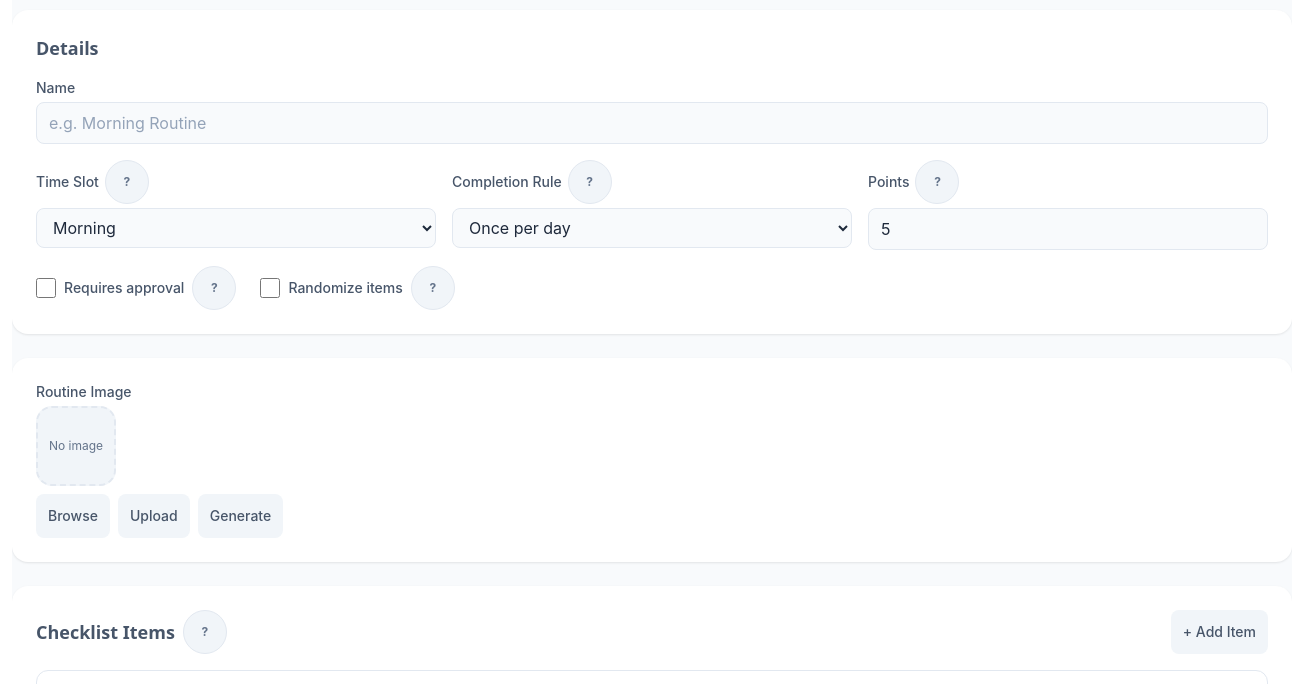
Scenario: AdminRoutineForm › shows secondary add-item button when 3+ items exist
Click the button "+ Add Item" at (1219, 632), box [1171, 610, 1268, 654]
(page scrolled)
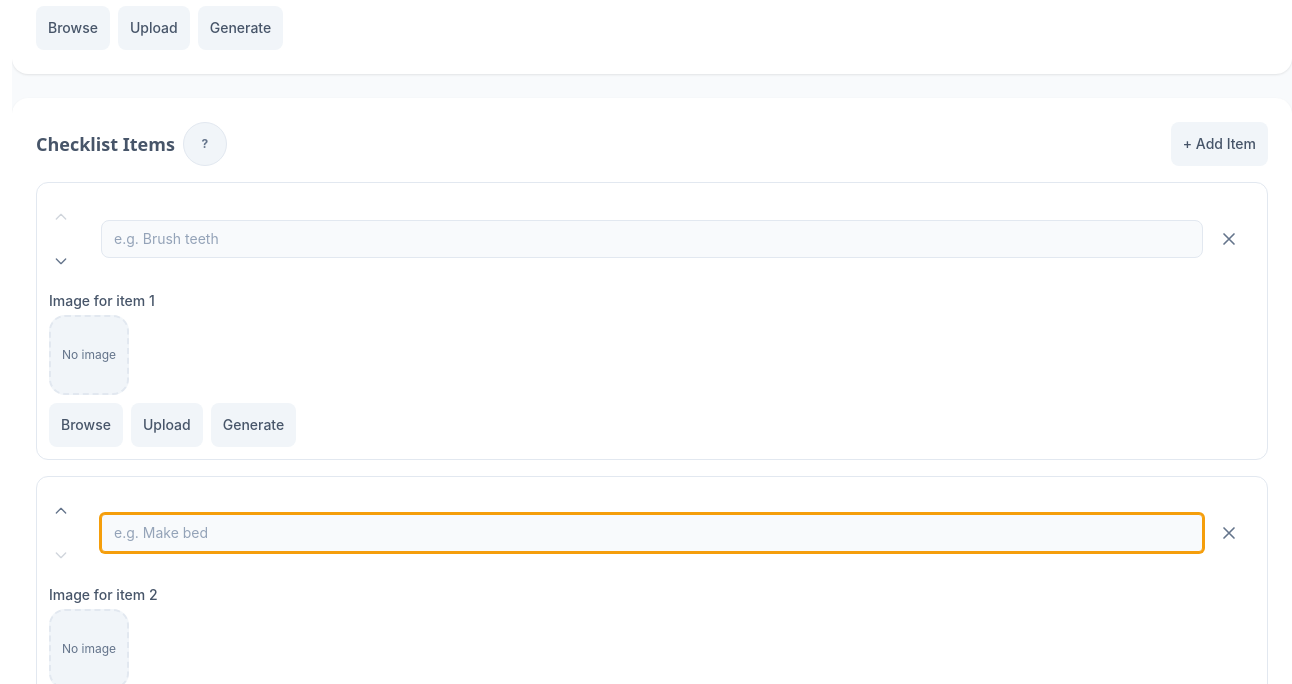
Check: the number of buttons "+ Add Item" is 1
Click the button "+ Add Item" at (1219, 144), box [1171, 122, 1268, 166]
(page scrolled)
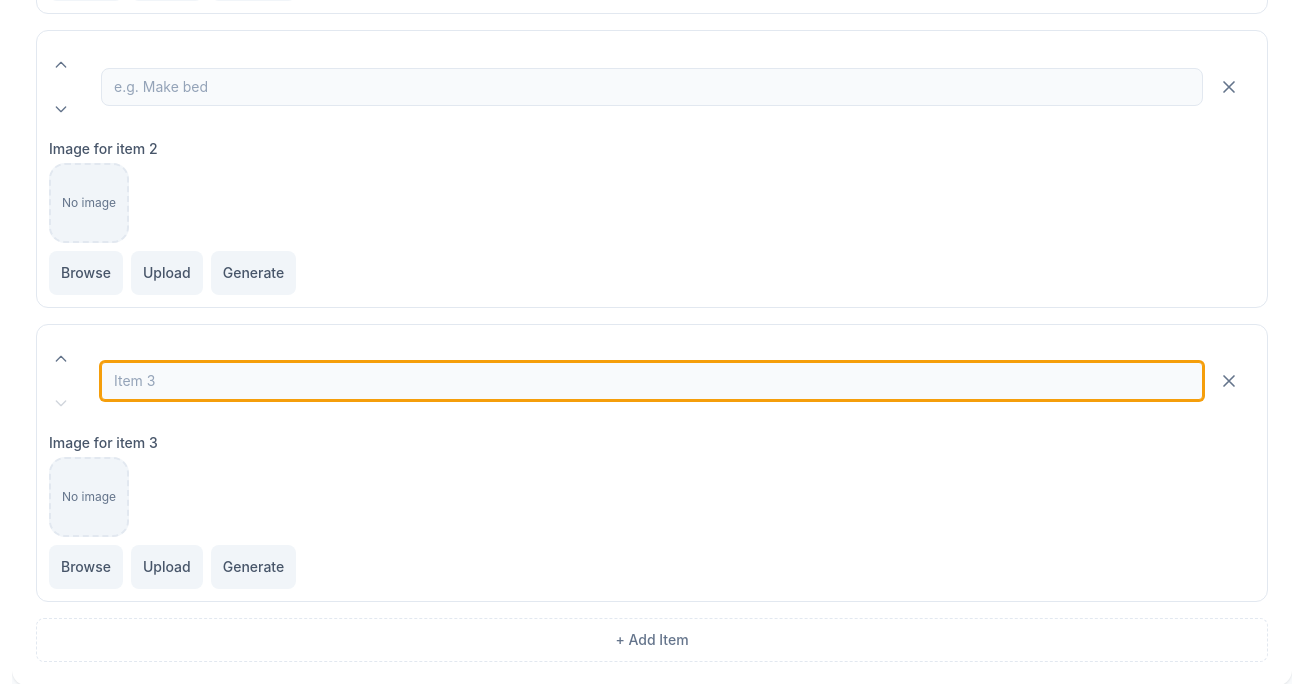
Check: the number of buttons "+ Add Item" is 2
Click the button "+ Add Item" at (652, 640), box [36, 618, 1268, 662]
(page scrolled)
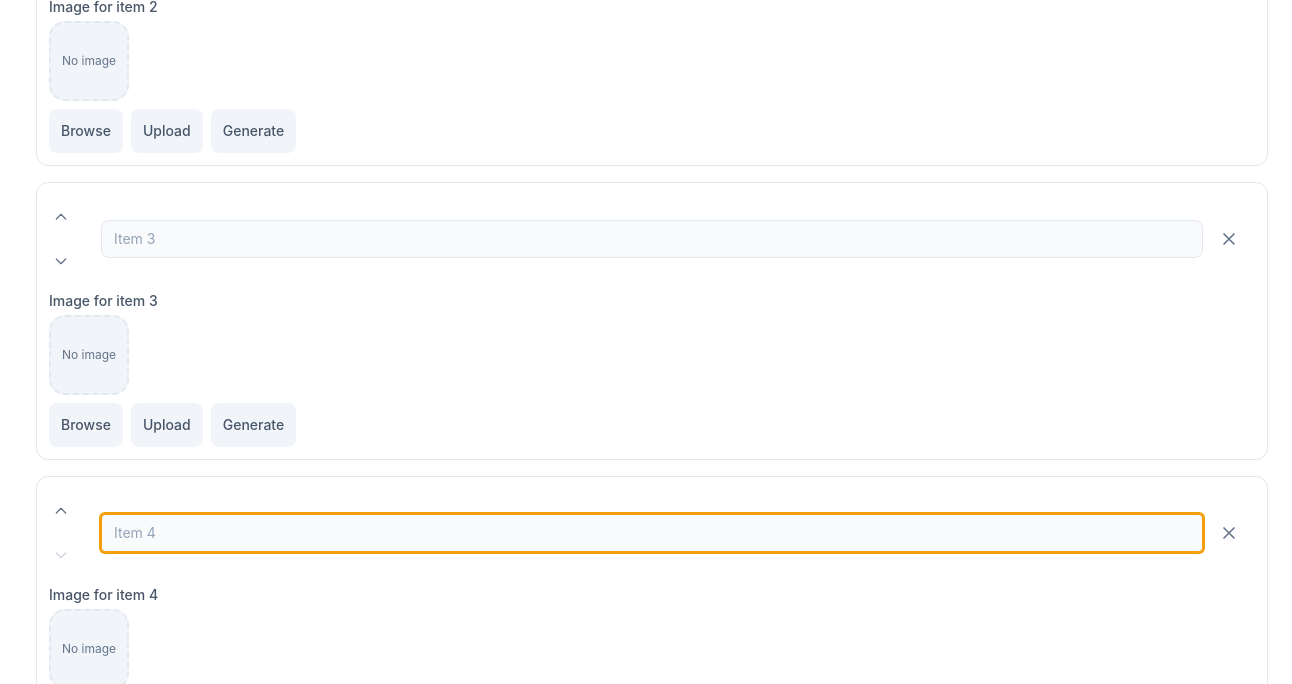
Check: the field named "Checklist item 4" is shown, box [101, 514, 1203, 552]
Click the button named "Remove item 4" at (1233, 533), box [1211, 511, 1255, 555]
(page scrolled)
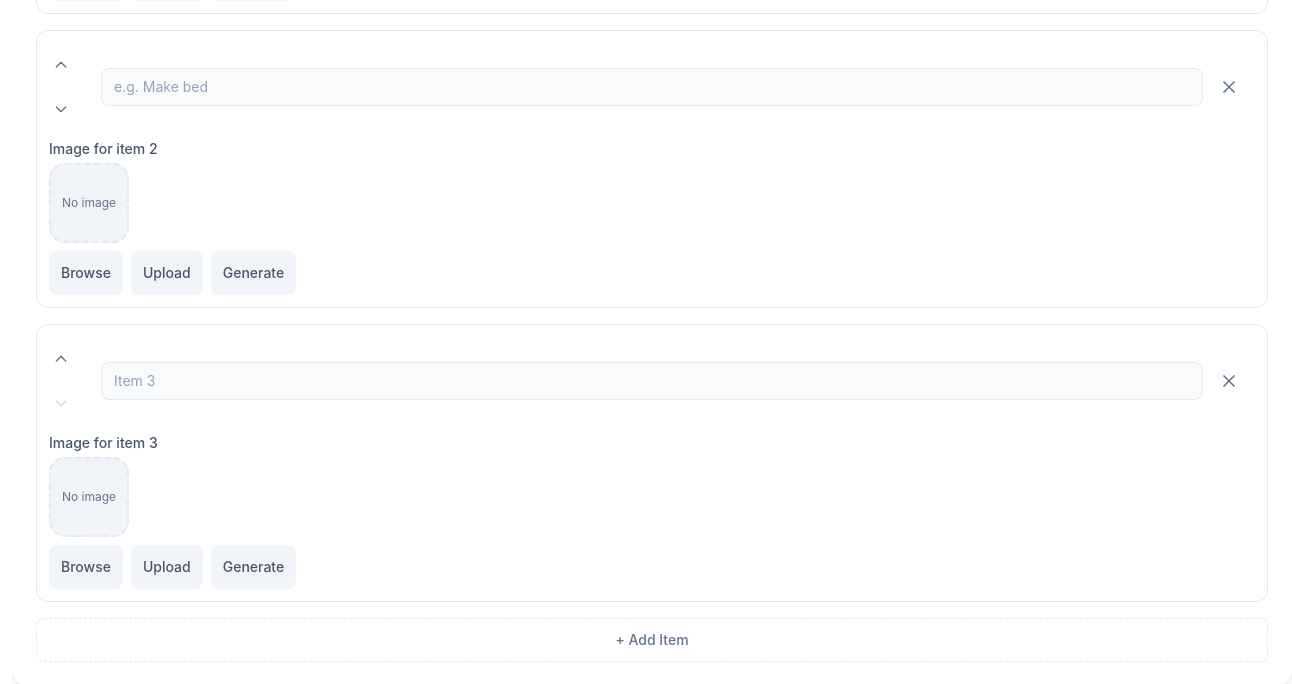
Click the button named "Remove item 3" at (1233, 381), box [1211, 359, 1255, 403]
(page scrolled)
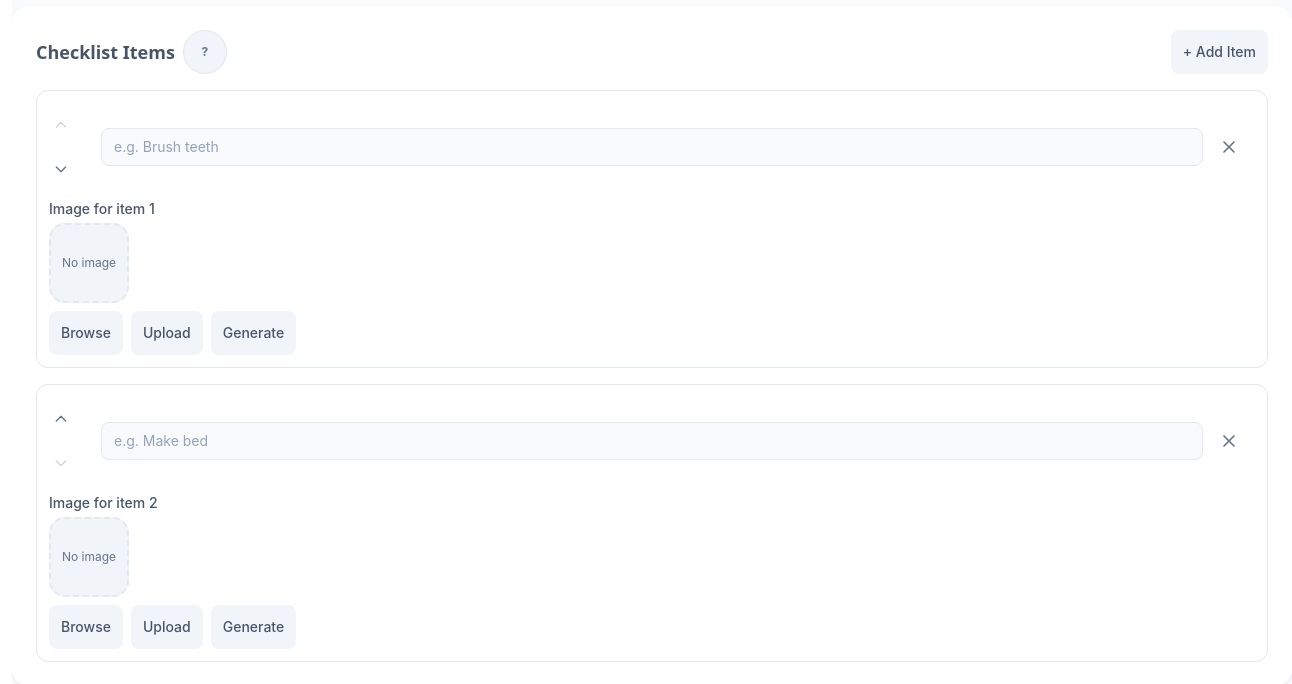
Check: the number of buttons "+ Add Item" is 1, box [1171, 30, 1268, 74]
